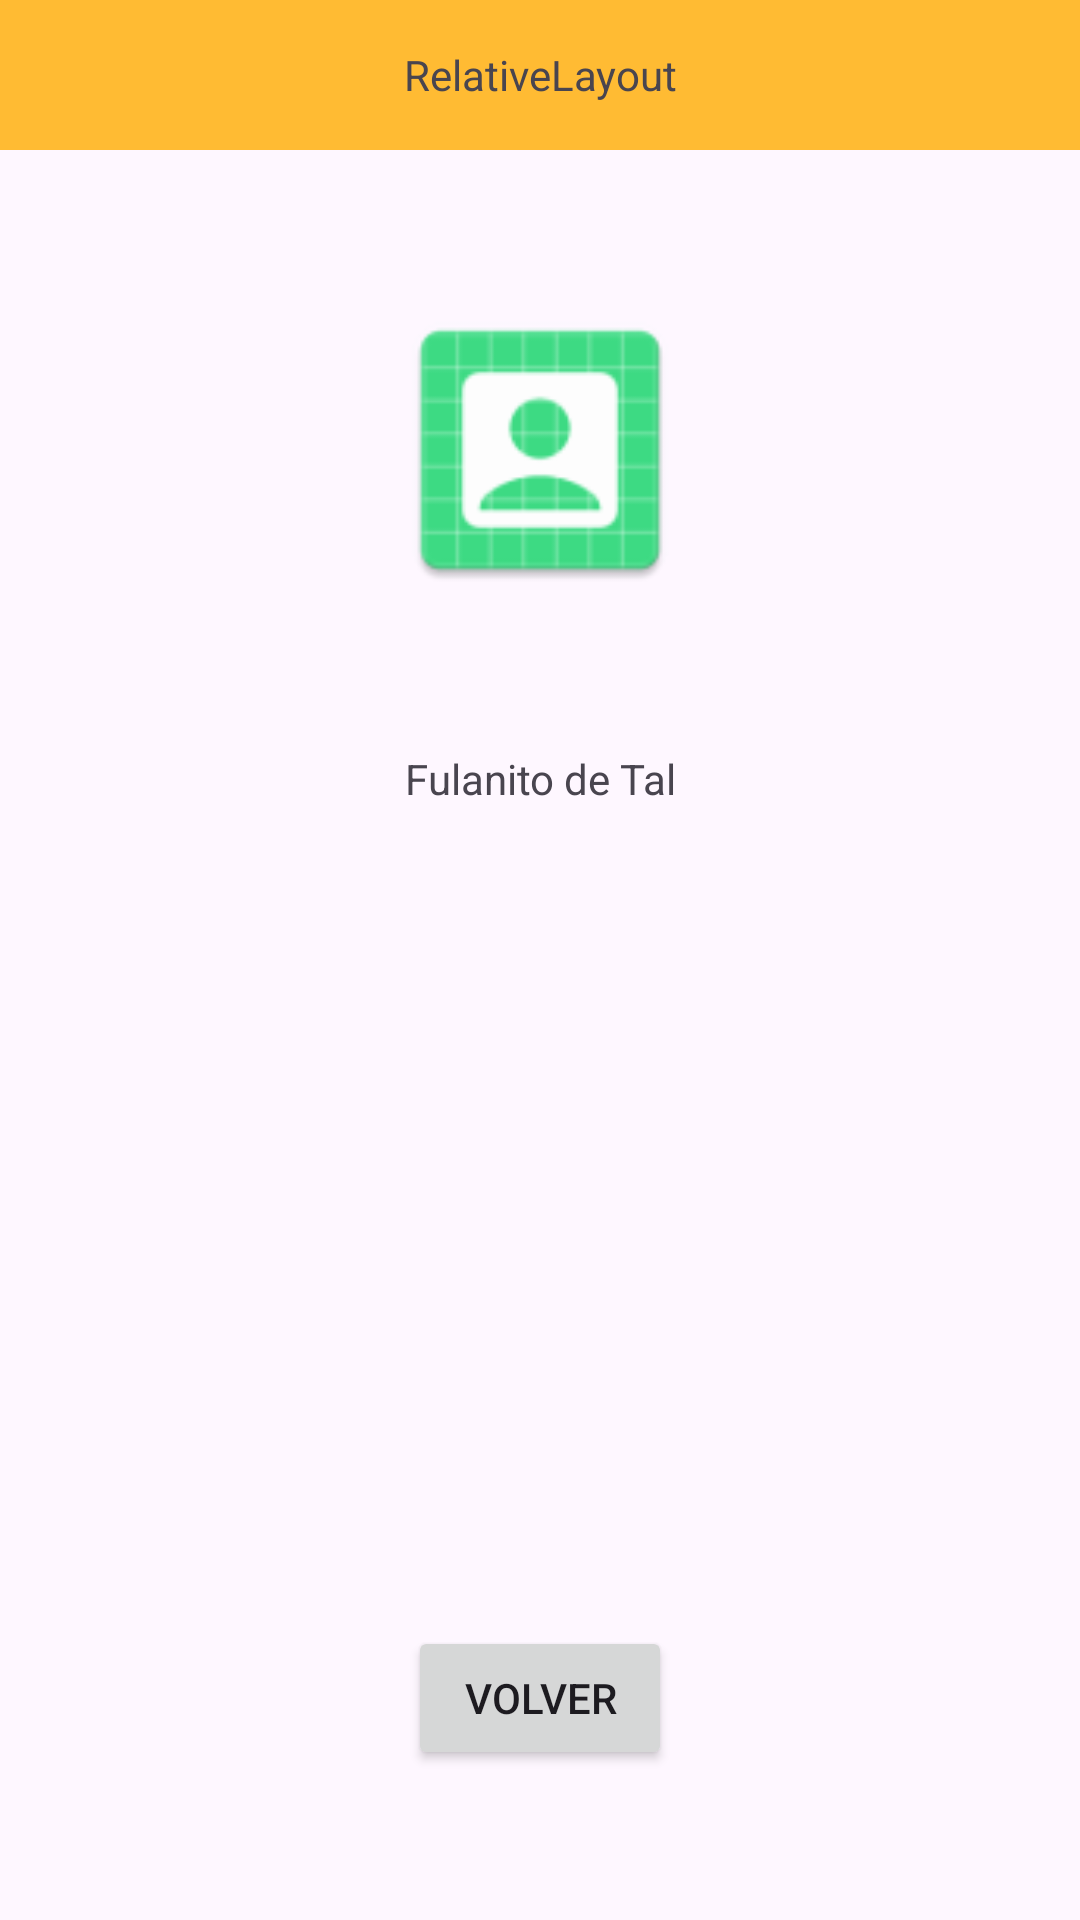

Icons on this 1080×1920 Android screen, each with its box as box(x1, y1, x2, y2):
account: box(418, 330, 662, 577)
